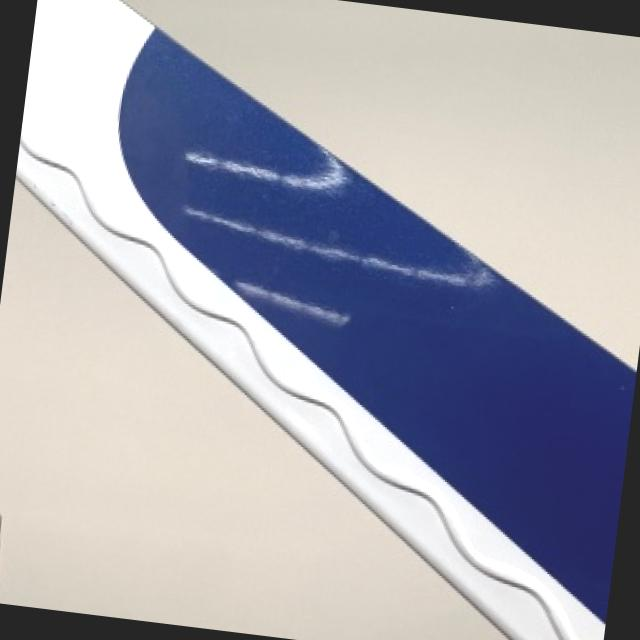healthy: (0, 184, 510, 640)
